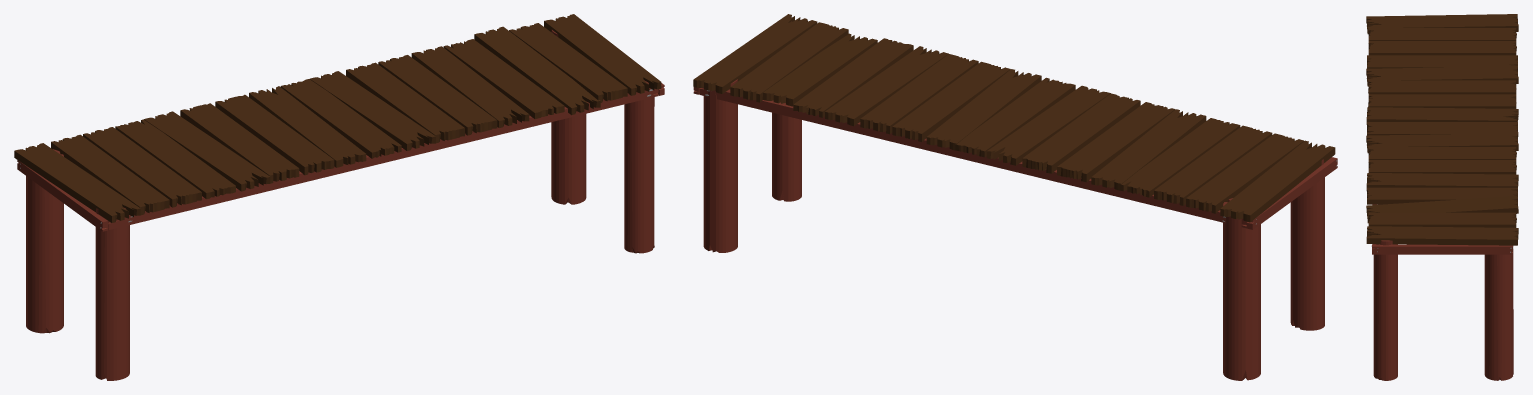
The model's file is deck rectangle 2.fbx.
The picture shows the model from 3 angles, left to right: view 1: azimuth 30°, elevation 25°; view 2: azimuth 150°, elevation 25°; view 3: azimuth 270°, elevation 25°; orthographic projection. The views are drawn at different scales.
Visible parts, largest first — view 1: Cylinder, Cylinder.003, Cylinder.002, Cube.002, Cube.020, Cube.012, Cube.008, Cube.014, Cube.013, Cube.015, Cube.004, Cube.007 (+11 smaller); view 2: Cylinder, Cylinder.001, Cylinder.003, Cube.003, Cube.020, Cube.008, Cube.014, Cube.015, Cube.007, Cube.019, Cube.013, Cube.004 (+11 smaller); view 3: Cylinder.001, Cylinder.002, Cube.014, Cube.010, Cube.015, Cube.018, Cube.011, Cube.006, Cube.008, Cube.016, Cube.013, Cube.009 (+8 smaller).
Boxes of the visible parts, x1,y1,x2,y2 form: Cylinder: [26, 149, 63, 333]; Cylinder.003: [95, 207, 129, 380]; Cylinder.002: [624, 80, 654, 253]; Cube.002: [108, 88, 658, 229]; Cube.020: [14, 143, 140, 222]; Cube.012: [474, 26, 600, 115]; Cube.008: [215, 94, 334, 175]; Cube.014: [544, 14, 661, 95]; Cube.013: [443, 39, 564, 118]; Cube.015: [180, 103, 299, 183]; Cube.004: [280, 79, 401, 158]; Cube.007: [346, 62, 464, 143]; Cylinder: [1223, 198, 1260, 380]; Cylinder.001: [703, 79, 737, 252]; Cylinder.003: [1290, 159, 1324, 330]; Cube.003: [699, 87, 1246, 228]; Cube.020: [1220, 140, 1335, 222]; Cube.008: [1022, 93, 1140, 173]; Cube.014: [693, 14, 817, 93]; Cube.015: [1057, 102, 1175, 182]; Cube.007: [892, 61, 1010, 141]; Cube.019: [1186, 133, 1303, 213]; Cube.013: [793, 38, 913, 117]; Cube.004: [955, 77, 1075, 157]; Cylinder.001: [1484, 246, 1513, 380]; Cylinder.002: [1373, 240, 1397, 380]; Cube.014: [1366, 226, 1518, 245]; Cube.010: [1368, 212, 1516, 227]; Cube.015: [1368, 80, 1516, 94]; Cube.018: [1368, 41, 1516, 55]; Cube.011: [1366, 173, 1518, 188]; Cube.006: [1366, 107, 1518, 124]; Cube.008: [1368, 94, 1516, 108]; Cube.016: [1366, 66, 1518, 86]; Cube.013: [1366, 187, 1517, 204]; Cube.009: [1368, 160, 1516, 174].
Bounding box in the file's own units: 3797 × 1134 × 1077.
